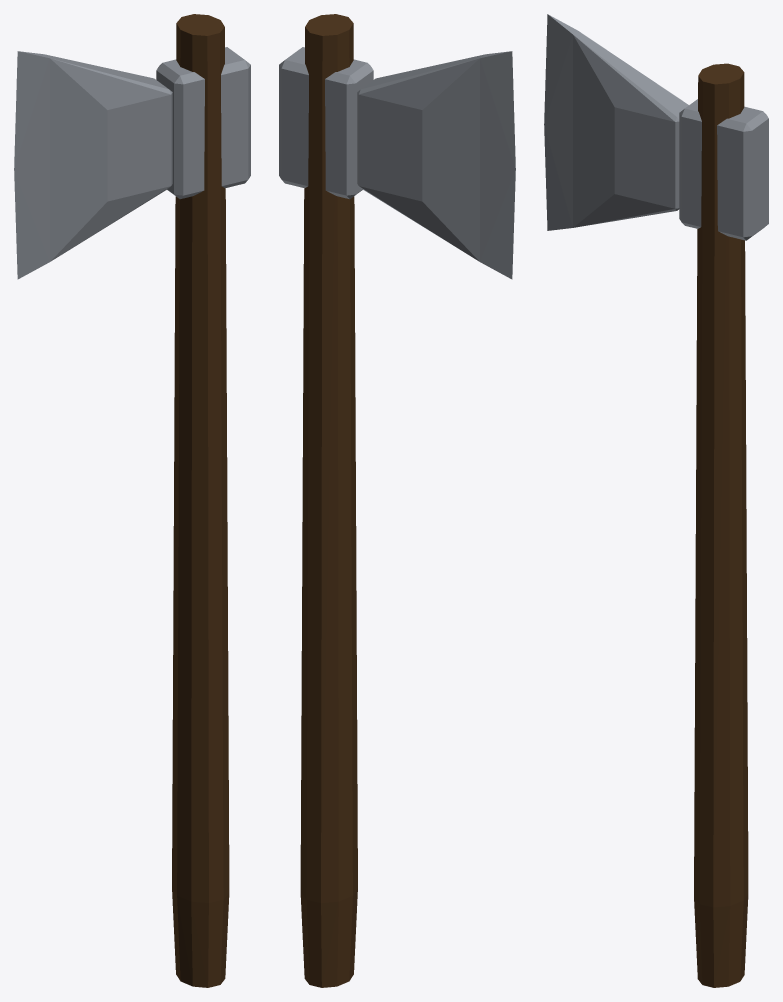
The model's file is Axe.obj.
3 views of the same model, side by side, from view 1: azimuth 30°, elevation 25°; view 2: azimuth 150°, elevation 25°; view 3: azimuth 330°, elevation 25° (orthographic). The views are drawn at different scales.
Parts seen in each view (by area): view 1: Ash, Steel; view 2: Ash, Steel; view 3: Ash, Steel.
Part boxes in pixels (<box>): Ash: <box>172,14,229,987</box>; Steel: <box>14,47,250,279</box>; Ash: <box>300,14,357,987</box>; Steel: <box>279,47,515,279</box>; Ash: <box>694,63,748,987</box>; Steel: <box>544,14,768,240</box>.
Bounding box in the file's own units: 0.193 × 0.785 × 0.0457.
